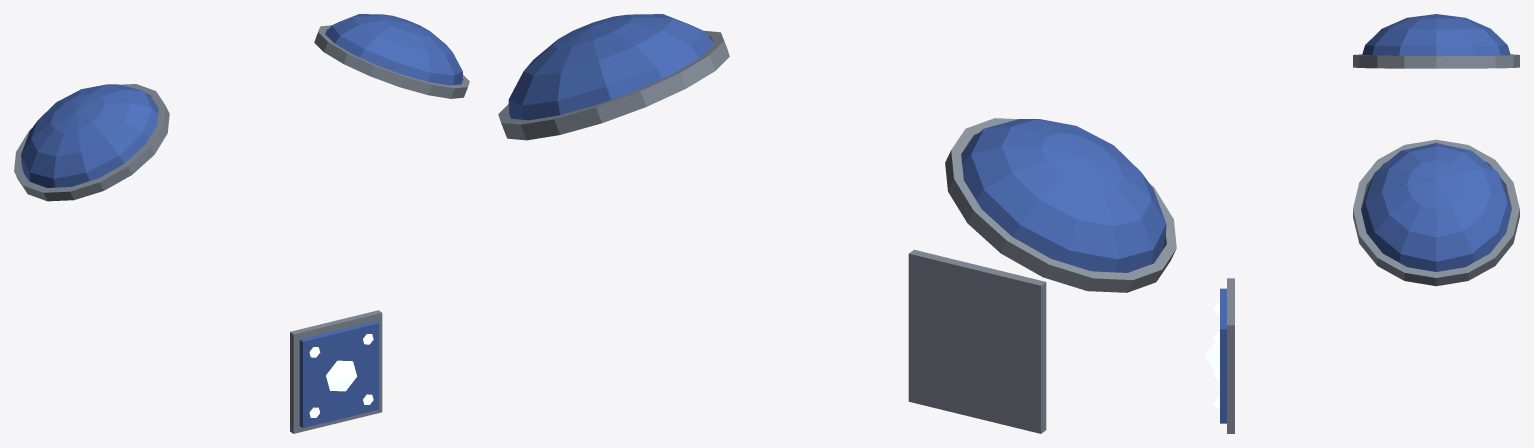
File: armor_knight_chest_rare_human.glb
3 views of the same model, side by side, from view 1: azimuth 30°, elevation 25°; view 2: azimuth 150°, elevation 25°; view 3: azimuth 270°, elevation 25° (orthographic). The views are drawn at different scales.
Parts seen in each view (by area): view 1: armor_knight_chest_rare_human__clavicle_r, armor_knight_chest_rare_human__spine_03, armor_knight_chest_rare_human__clavicle_l; view 2: armor_knight_chest_rare_human__clavicle_r, armor_knight_chest_rare_human__spine_03, armor_knight_chest_rare_human__clavicle_l; view 3: armor_knight_chest_rare_human__clavicle_l, armor_knight_chest_rare_human__clavicle_r, armor_knight_chest_rare_human__spine_03.
Boxes of the visible parts, x1=… form: armor_knight_chest_rare_human__clavicle_r: x1=14, y1=84, x2=169, y2=201; armor_knight_chest_rare_human__spine_03: x1=290, y1=310, x2=382, y2=433; armor_knight_chest_rare_human__clavicle_l: x1=314, y1=14, x2=469, y2=98; armor_knight_chest_rare_human__clavicle_r: x1=945, y1=118, x2=1176, y2=292; armor_knight_chest_rare_human__spine_03: x1=908, y1=249, x2=1046, y2=433; armor_knight_chest_rare_human__clavicle_l: x1=498, y1=14, x2=729, y2=140; armor_knight_chest_rare_human__clavicle_l: x1=1353, y1=139, x2=1519, y2=286; armor_knight_chest_rare_human__clavicle_r: x1=1353, y1=14, x2=1519, y2=68; armor_knight_chest_rare_human__spine_03: x1=1205, y1=278, x2=1234, y2=433.
Bounding box in the file's own units: 69.81 × 45.74 × 39.96.
